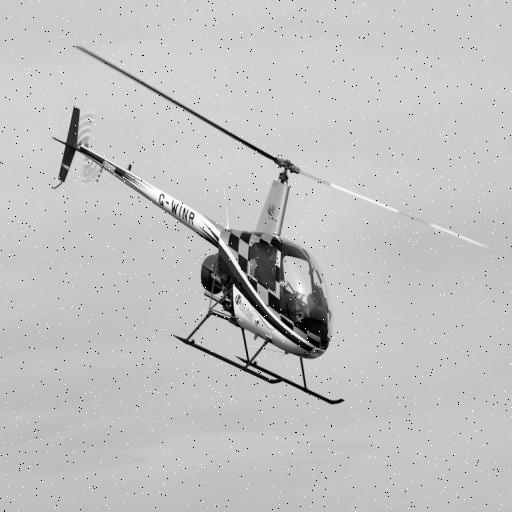helicopter: (50, 47, 500, 408)
